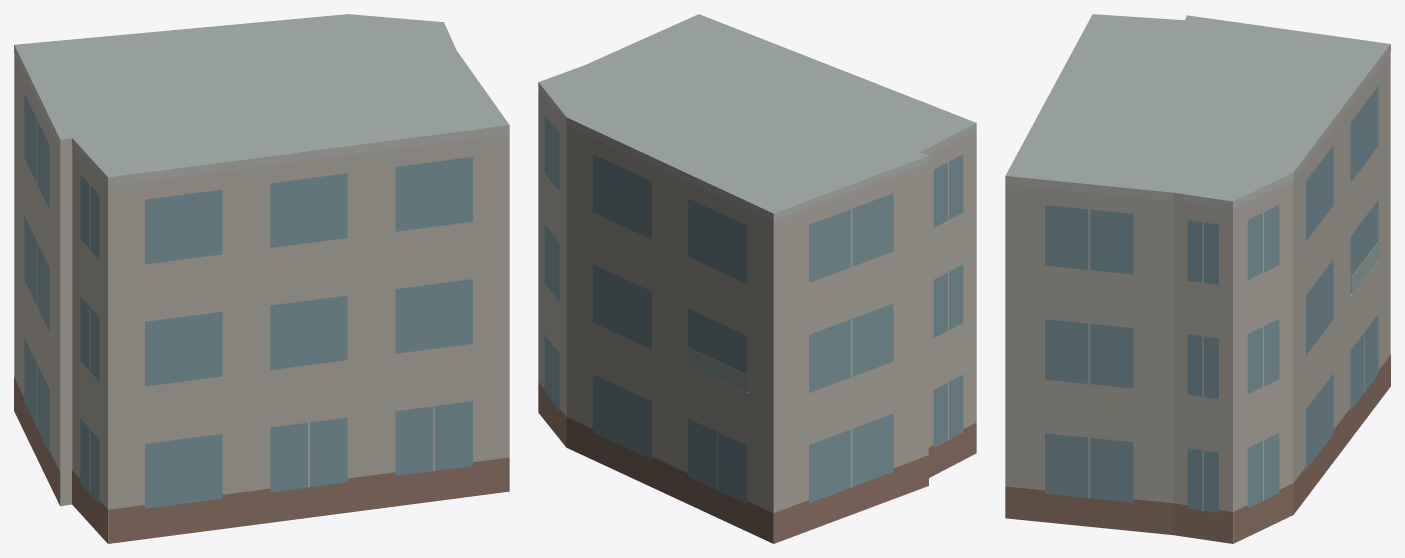
The model's file is survey-upis-32667968.glb.
3 views of the same model, side by side, from view 1: azimuth 30°, elevation 25°; view 2: azimuth 150°, elevation 25°; view 3: azimuth 270°, elevation 25° (orthographic). The views are drawn at different scales.
Parts seen in each view (by area): view 1: survey-upis-32667968.tmp; view 2: survey-upis-32667968.tmp; view 3: survey-upis-32667968.tmp.
Boxes of the visible parts, <box> form: survey-upis-32667968.tmp: <box>14,14,509,543</box>; survey-upis-32667968.tmp: <box>538,14,976,543</box>; survey-upis-32667968.tmp: <box>1005,14,1390,543</box>.
Size of the model in its own units: 12.1 by 10.3 by 10.52.
